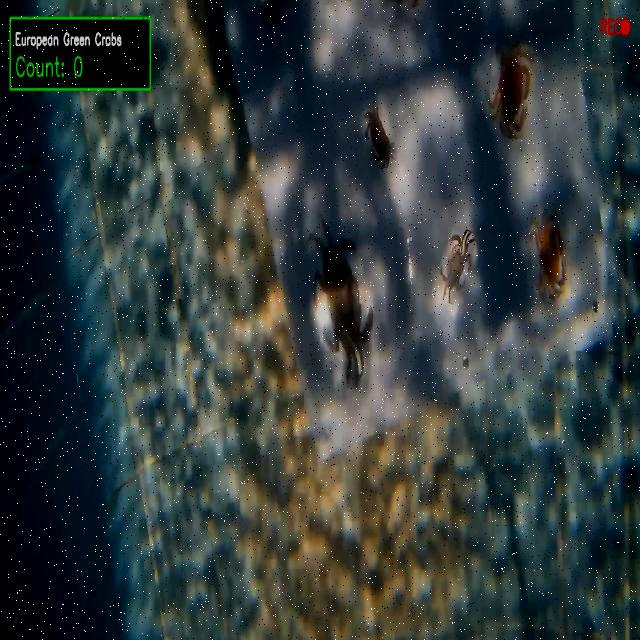European_Green_Crab: (296, 194, 384, 404), (428, 217, 485, 316)
